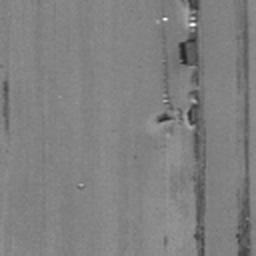Slag inclusion: (160, 0, 206, 256), (234, 0, 253, 256), (3, 78, 10, 132), (156, 113, 175, 124)
